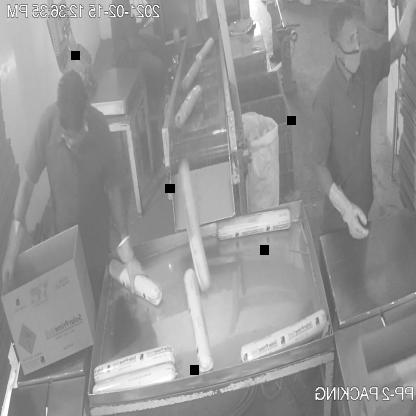glove: (324, 176, 378, 249), (0, 205, 33, 294), (113, 226, 152, 301), (389, 0, 416, 59)
